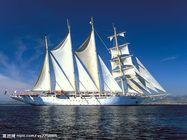fanchuan: (7, 19, 170, 108)
